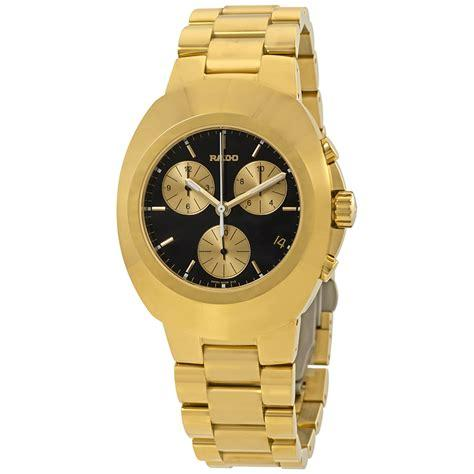Watch: (116, 5, 358, 473)
